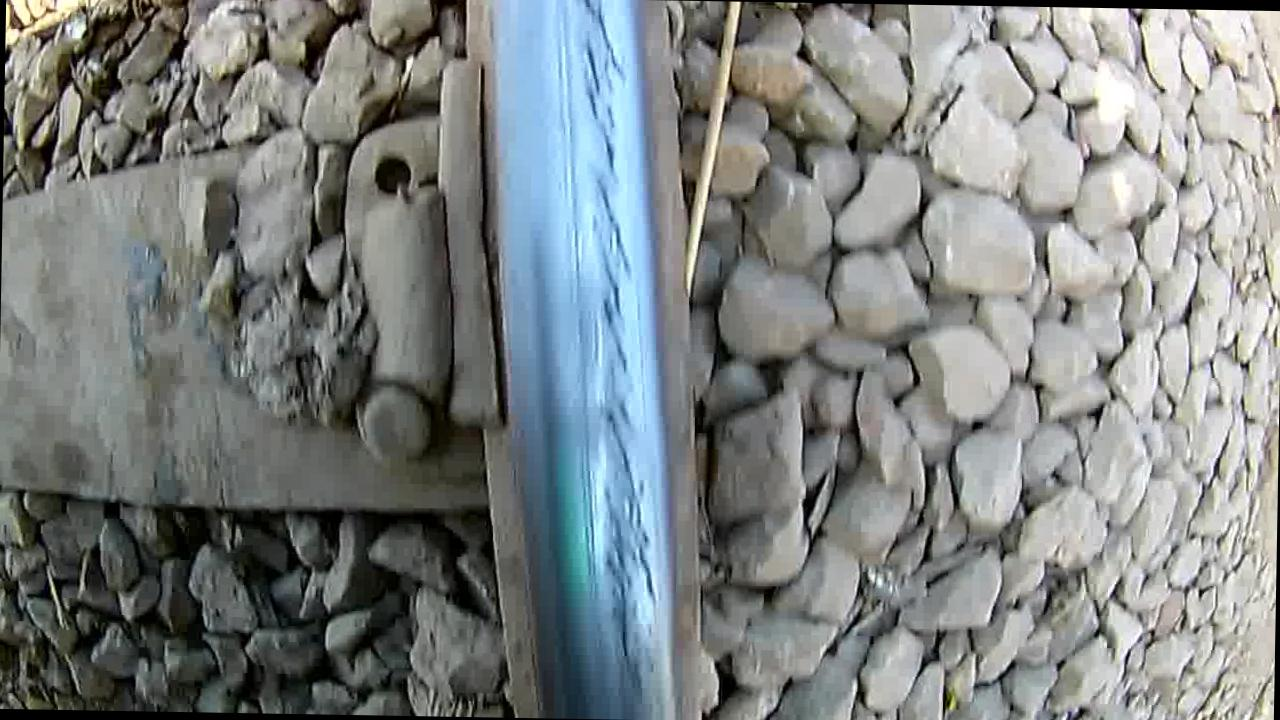normal_track: (545, 0, 673, 691)
